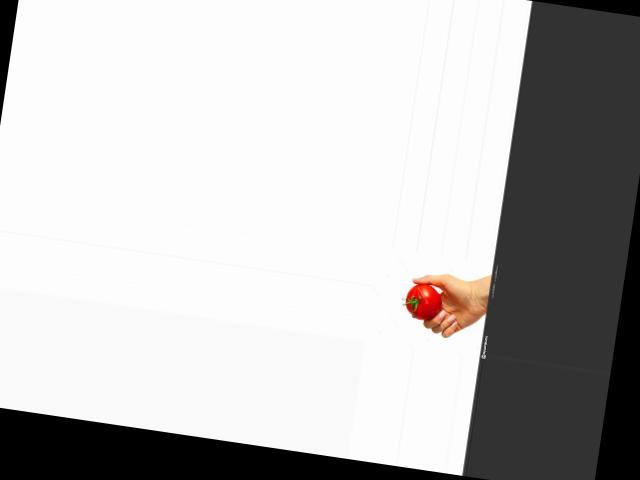tomato: (403, 281, 444, 321)
